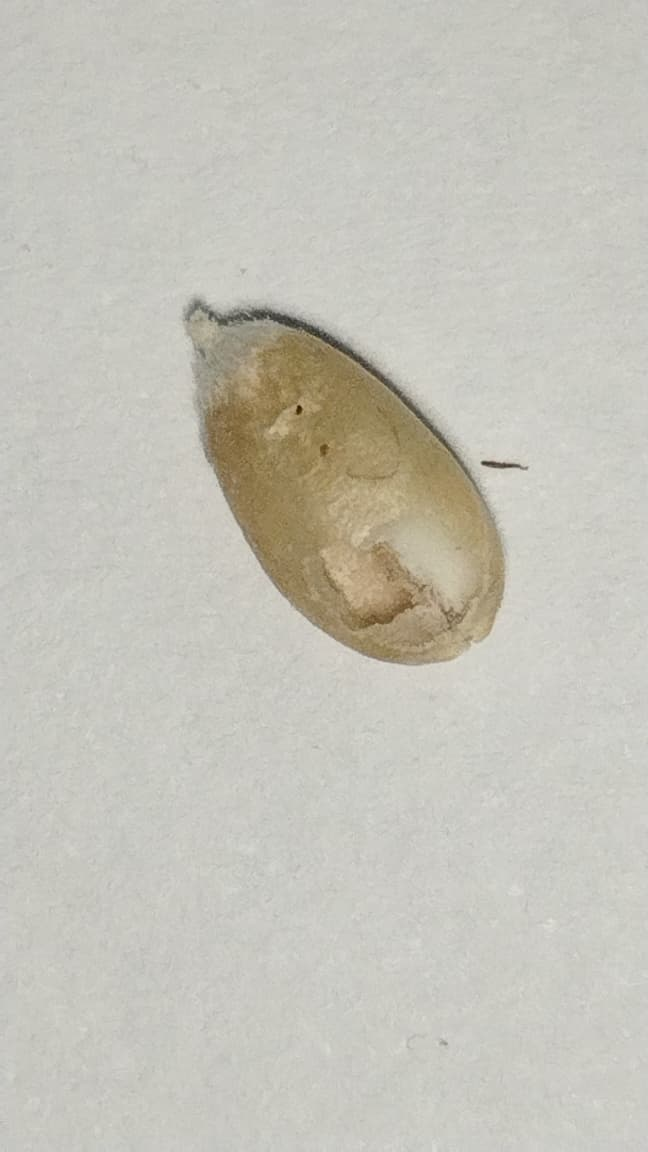damage: (185, 299, 503, 663)
insectdamage: (283, 496, 505, 647)
